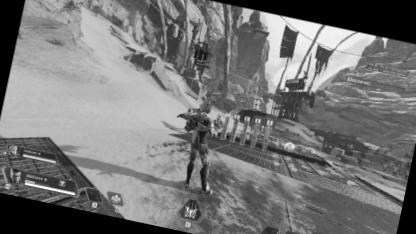Target: (168, 97, 226, 192)
